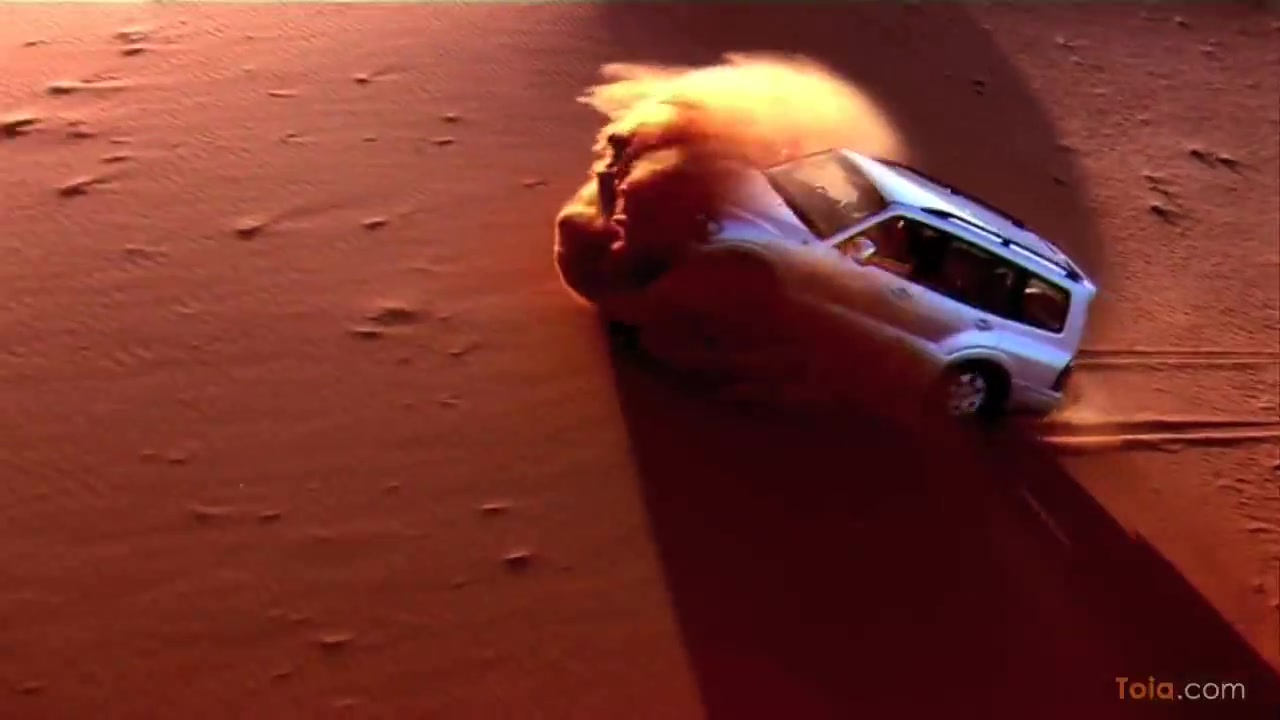car: (651, 144, 1098, 432)
